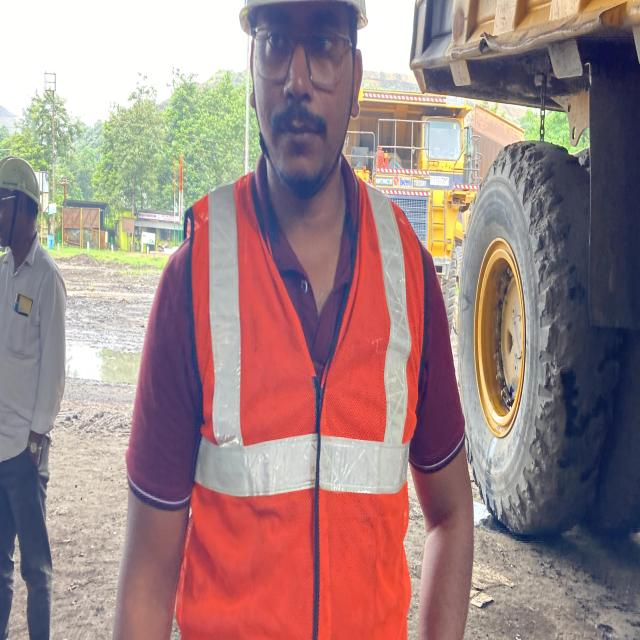dump_truck: (403, 0, 640, 555), (356, 73, 475, 334)
